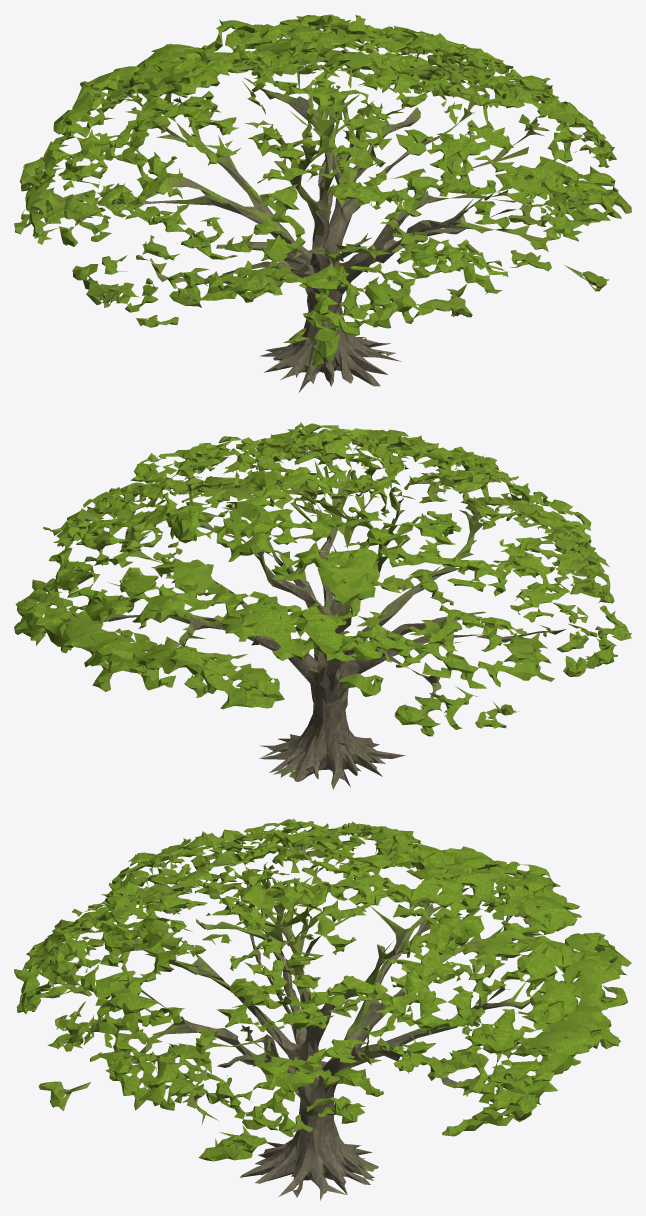
File: e4raintree.glb
The picture shows the model from 3 angles, top to bottom: view 1: azimuth 30°, elevation 25°; view 2: azimuth 150°, elevation 25°; view 3: azimuth 270°, elevation 25°; orthographic projection. The views are drawn at different scales.
Visible parts, largest first — view 1: output_unwrapped; view 2: output_unwrapped; view 3: output_unwrapped.
Part boxes in pixels (box(x1,y1,x2,y2)): output_unwrapped: box(14, 14, 631, 392); output_unwrapped: box(14, 422, 631, 789); output_unwrapped: box(14, 818, 631, 1200).
Bounding box in the file's own units: 1.75 × 1 × 1.74.
Materials: 1 (1 with a texture image).
